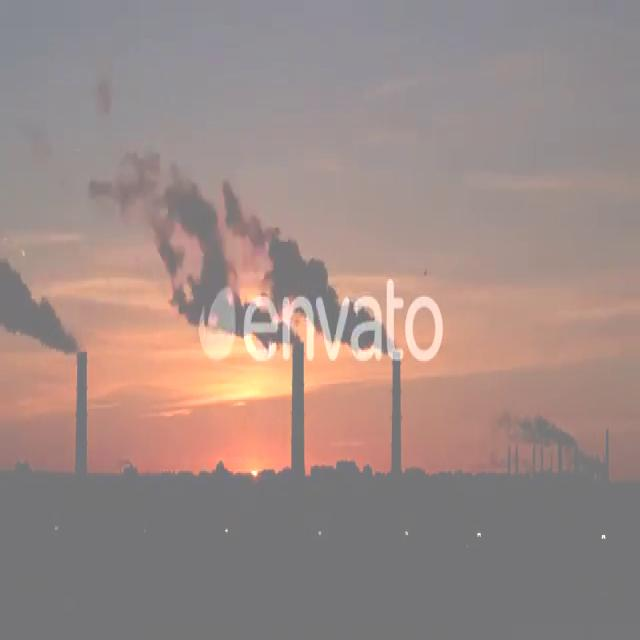smoke: (224, 181, 392, 356), (155, 185, 299, 341), (0, 260, 79, 356)
